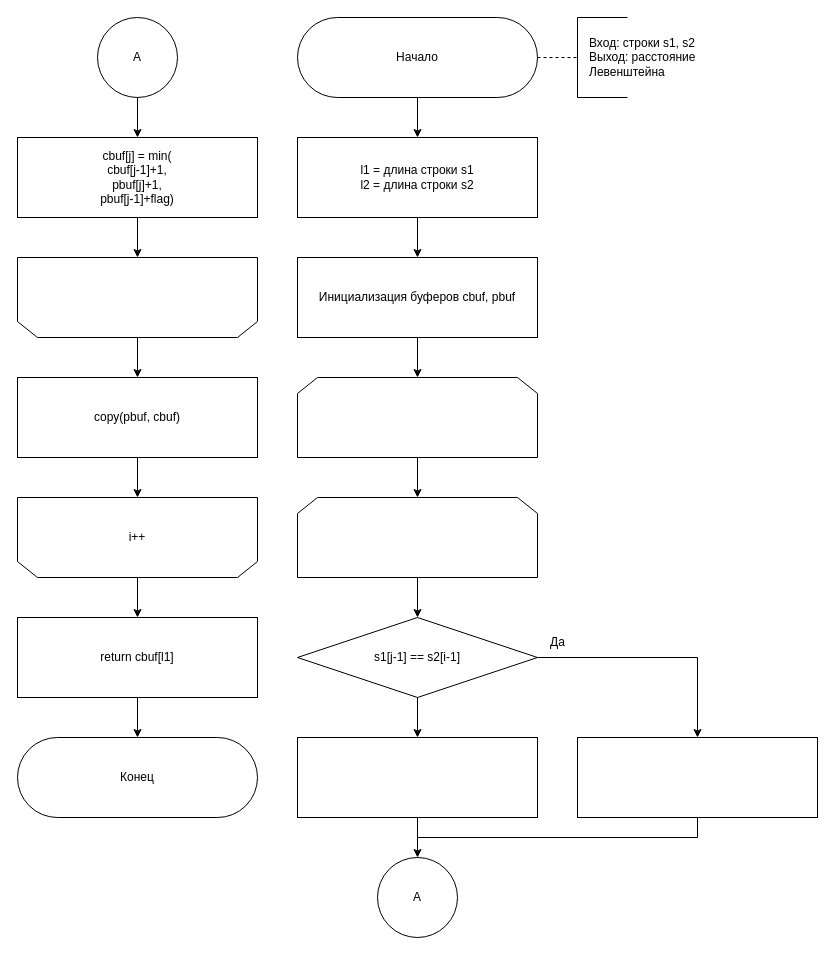
The diagram is 835 pixels wide and 955 high, and some of its shapes have lost their labels. The shapes that lost their labels are listed below. From the top down, each one's box as (x1, y1, x2, y2) in pixels, then its label:
(16, 256, 258, 338): j++
(296, 376, 538, 458): Цикл i = 1; i < l2 + 1
(296, 496, 538, 578): Цикл j = 1; j < l1 + 1
(296, 736, 538, 818): flag = 1
(576, 736, 818, 818): flag = 0
